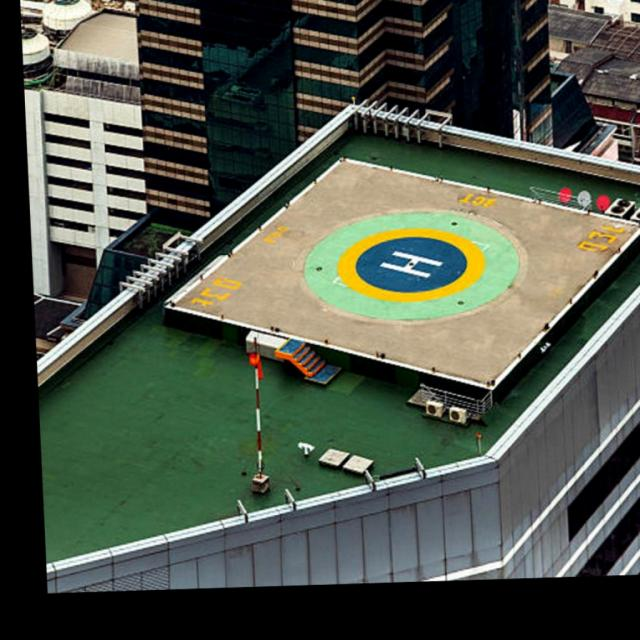helipad: (333, 224, 488, 304)
